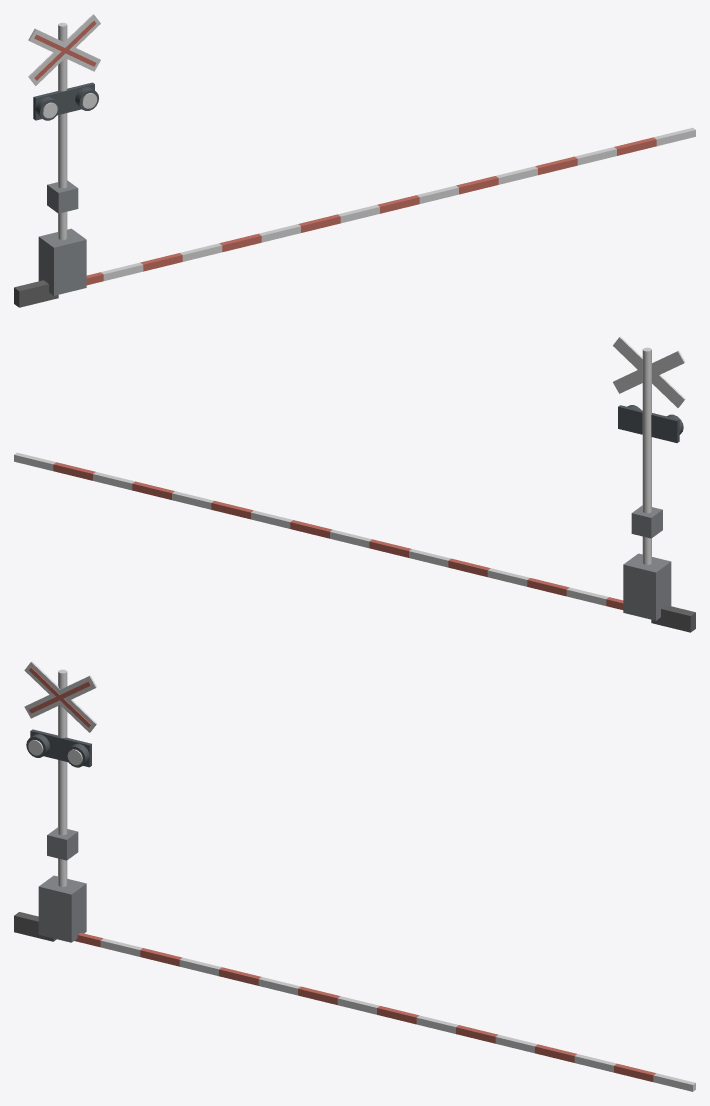
The model's file is palang.glb.
The picture shows the model from 3 angles, top to bottom: view 1: azimuth 30°, elevation 25°; view 2: azimuth 150°, elevation 25°; view 3: azimuth 330°, elevation 25°; orthographic projection.
Visible parts, largest first — view 1: main, lengan; view 2: main, lengan; view 3: main, lengan.
Part boxes in pixels (left/top/right/bottom): main: left=28, top=14, right=100, bottom=295; lengan: left=14, top=127, right=695, bottom=307; main: left=613, top=336, right=685, bottom=620; lengan: left=14, top=452, right=695, bottom=632; main: left=24, top=661, right=96, bottom=942; lengan: left=14, top=912, right=695, bottom=1091.
Size of the model in its own units: 10.3 by 3.98 by 0.4.
